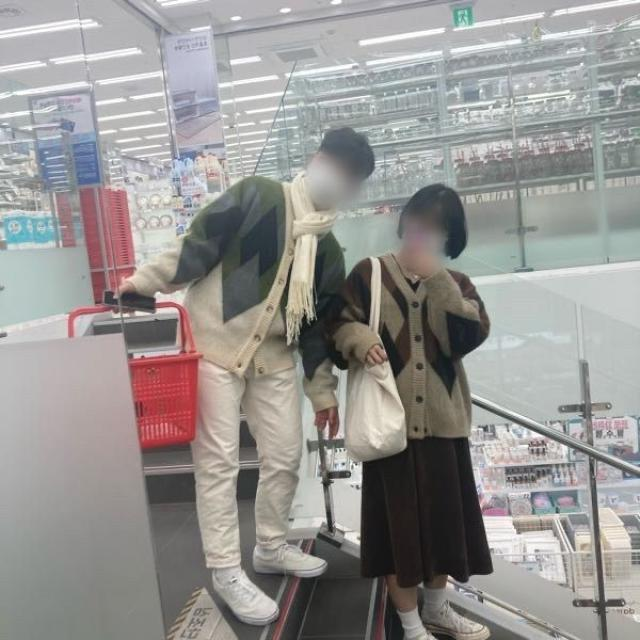cardigan: (115, 173, 349, 415), (325, 260, 488, 445)
cottonpants: (178, 316, 304, 567)
skirt: (360, 405, 496, 589)
